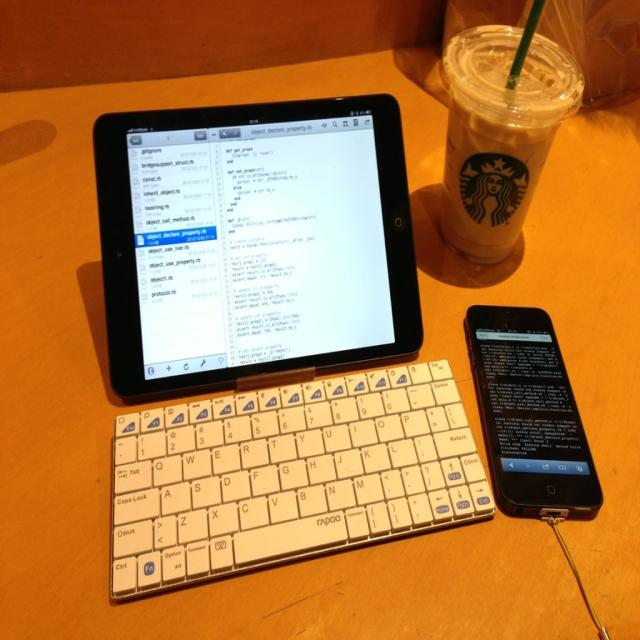Mobile-phone: (467, 300, 605, 522)
